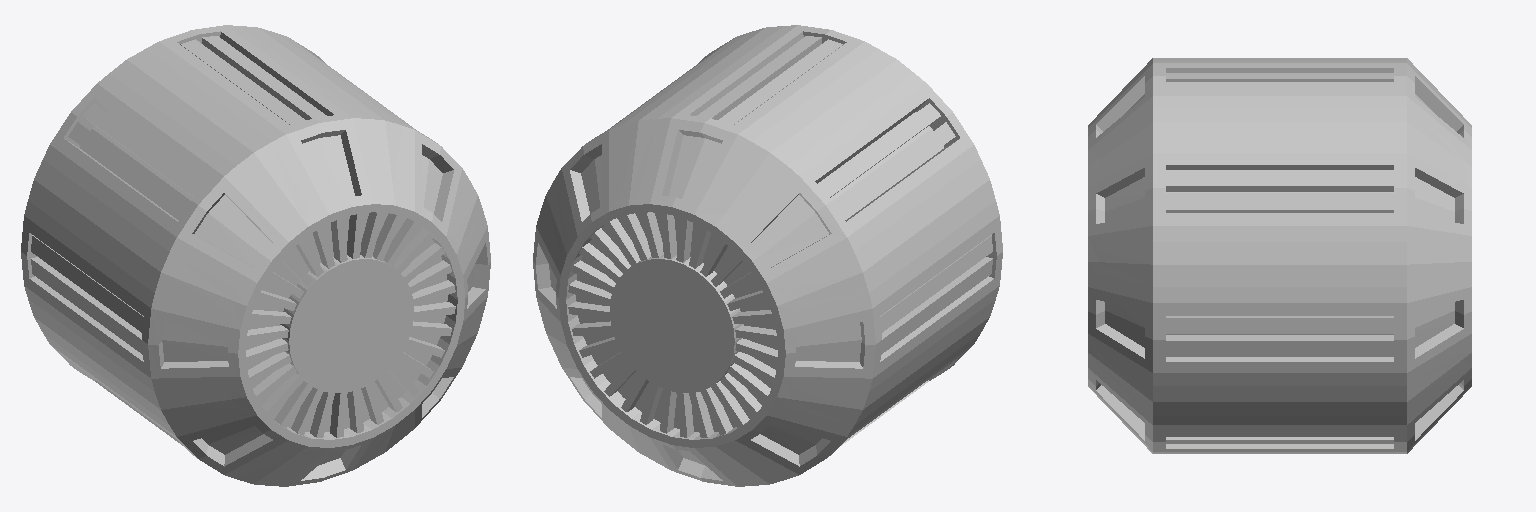
File: IEC Reactor Spinny.obj
3 views of the same model, side by side, from view 1: azimuth 30°, elevation 25°; view 2: azimuth 150°, elevation 25°; view 3: azimuth 270°, elevation 25° (orthographic).
Visible parts, largest first — view 1: Cylinder_Cylinder.001; view 2: Cylinder_Cylinder.001; view 3: Cylinder_Cylinder.001.
Boxes of the visible parts, box(x1,y1,x2,y2) form: Cylinder_Cylinder.001: box(21, 25, 490, 486); Cylinder_Cylinder.001: box(533, 25, 1002, 486); Cylinder_Cylinder.001: box(1088, 58, 1471, 453).
Size of the model in its own units: 1.5 by 1.5 by 1.45.